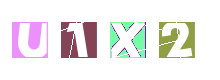1: (71, 0, 151, 80)
2: (91, 0, 171, 80)
U: (0, 0, 80, 80)
X: (81, 0, 161, 80)
